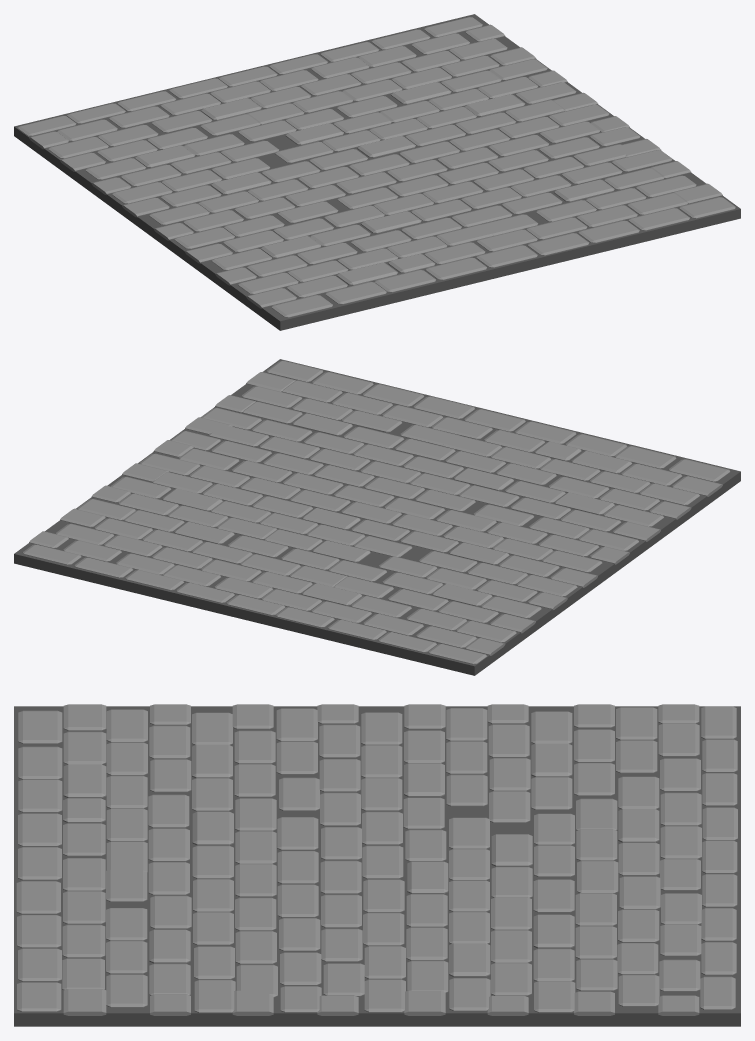
The model's file is DungeonGround.fbx.
3 renders of one model, top to bottom at view 1: azimuth 30°, elevation 25°; view 2: azimuth 150°, elevation 25°; view 3: azimuth 270°, elevation 25°, orthographic. The views are drawn at different scales.
Visible parts, largest first — view 1: DungeonGround; view 2: DungeonGround; view 3: DungeonGround.
Part boxes in pixels (box(x1,y1,x2,y2)): DungeonGround: box(14, 14, 740, 330); DungeonGround: box(14, 359, 740, 675); DungeonGround: box(14, 704, 740, 1026).
Bounding box in the file's own units: 505 × 12.39 × 505.
1 material, 1 textured.
